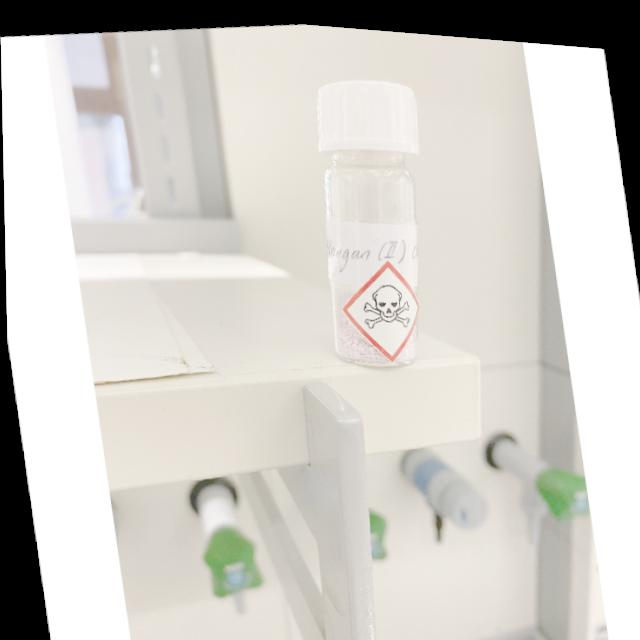acute toxicity: (357, 274, 410, 326)
